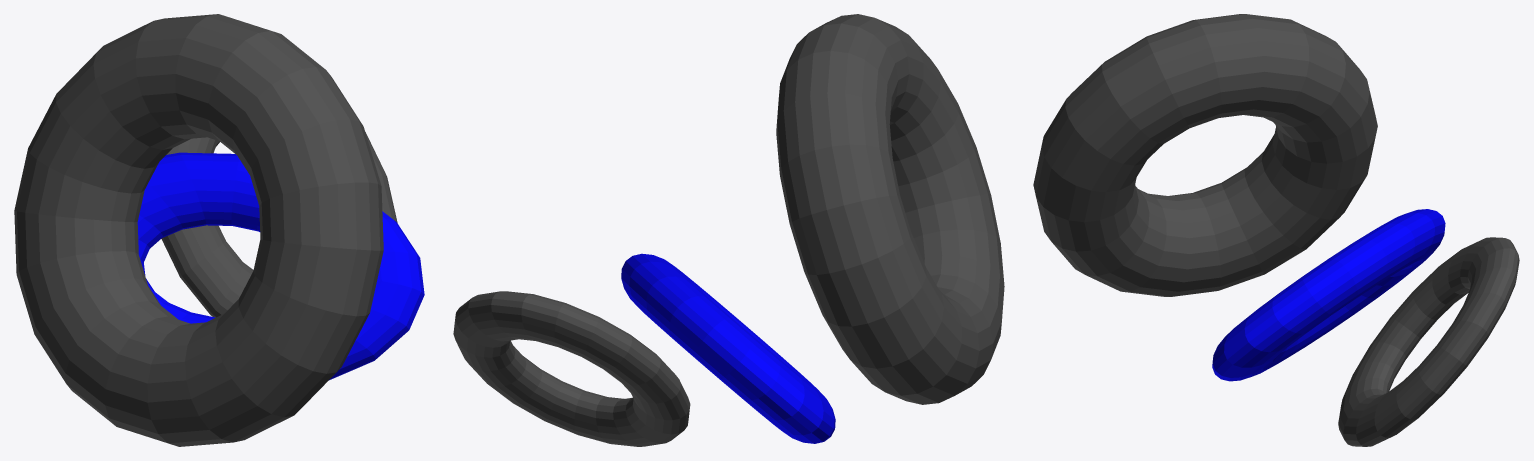
File: _ref_lambert_transparency_0.dae
3 renders of one model, left to right at view 1: azimuth 30°, elevation 25°; view 2: azimuth 150°, elevation 25°; view 3: azimuth 270°, elevation 25°, orthographic. The views are drawn at different scales.
Visible parts, largest first — view 1: pTorus3, pTorus1, pTorus2; view 2: pTorus3, pTorus2, pTorus1; view 3: pTorus3, pTorus2, pTorus1.
Part boxes in pixels (x1=…): pTorus3: x1=14, y1=14, x2=383, y2=446; pTorus1: x1=137, y1=152, x2=424, y2=380; pTorus2: x1=161, y1=132, x2=397, y2=317; pTorus3: x1=776, y1=14, x2=1004, y2=404; pTorus2: x1=453, y1=291, x2=690, y2=446; pTorus1: x1=621, y1=253, x2=835, y2=443; pTorus3: x1=1033, y1=14, x2=1377, y2=296; pTorus2: x1=1338, y1=237, x2=1519, y2=446; pTorus1: x1=1212, y1=209, x2=1445, y2=381.
Bounding box in the file's own units: 308 × 283 × 357.
